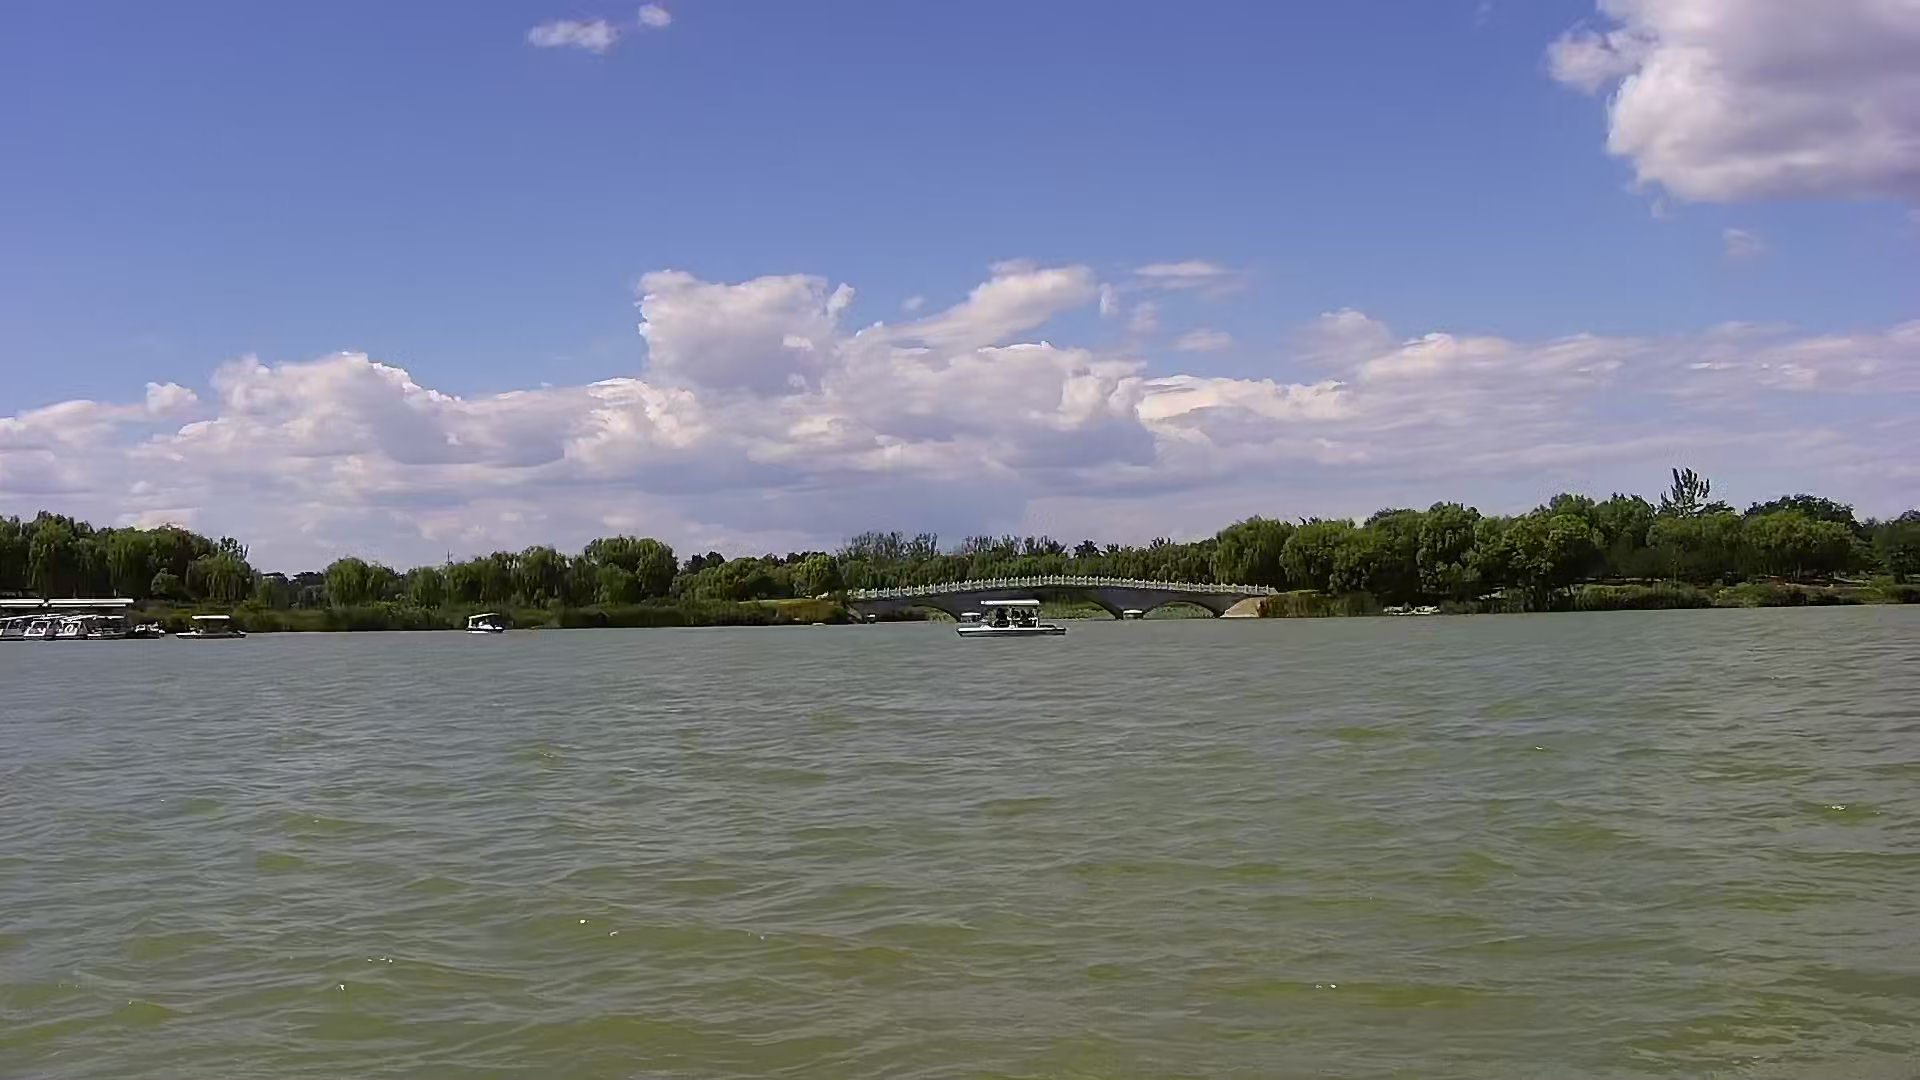boat: (947, 592, 1073, 640), (177, 608, 261, 646), (458, 608, 506, 636)
bridge: (835, 572, 1273, 622)
